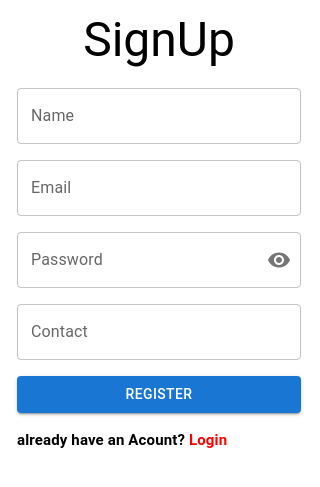
Scenario: Register Page unit Tests › Testing for should show error for password validating for Special number
Type "Test12345" into the password field labelled "Password" at (134, 260), box [17,232,251,288]
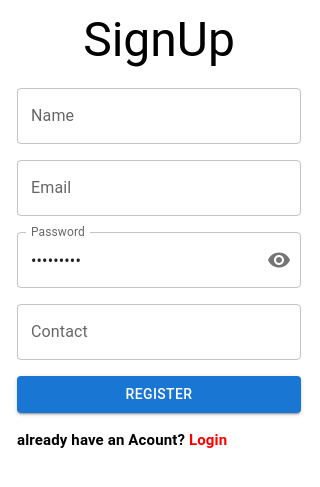
Leave the password field labelled "Password", box [17,232,251,288]
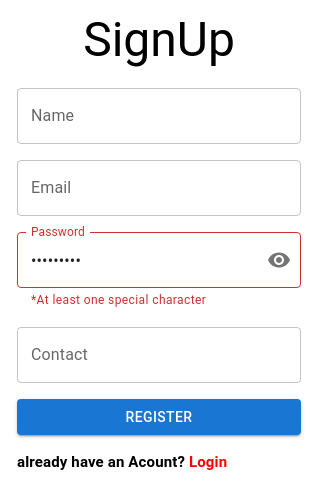
expect the text "*At least one special character" is shown: met, box [31,293,206,307]
